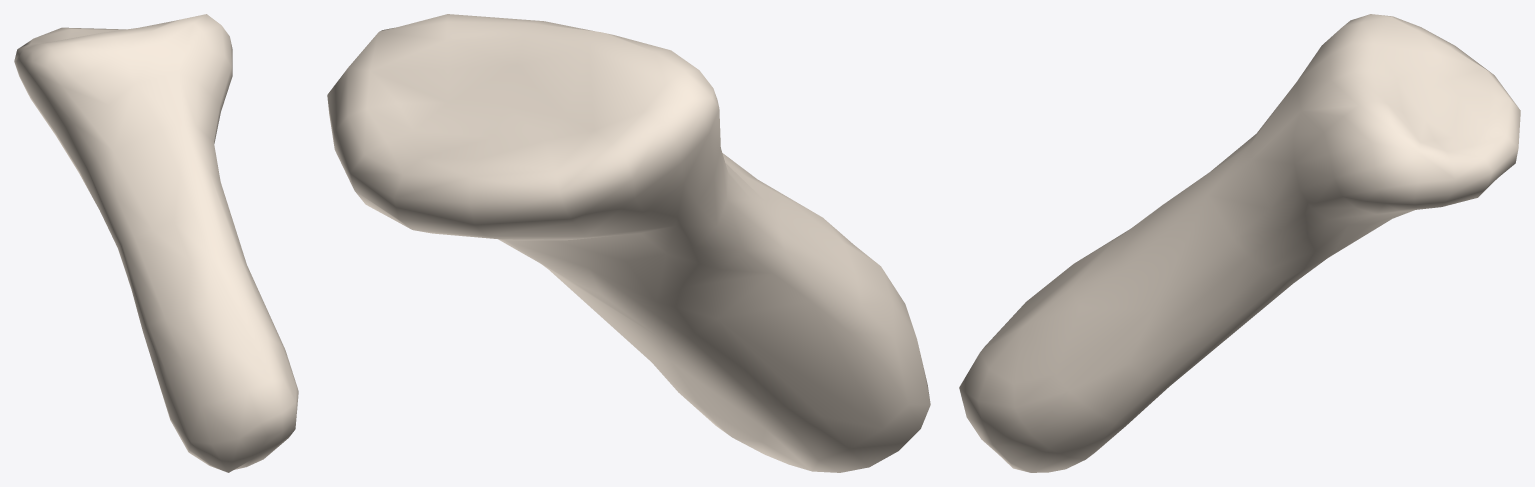
The model's file is left_digit_5_distal.glb.
3 views of the same model, side by side, from view 1: azimuth 30°, elevation 25°; view 2: azimuth 150°, elevation 25°; view 3: azimuth 270°, elevation 25° (orthographic). The views are drawn at different scales.
Visible parts, largest first — view 1: Distal phalanx of 5th finger.r; view 2: Distal phalanx of 5th finger.r; view 3: Distal phalanx of 5th finger.r.
Boxes of the visible parts, x1,y1,x2,y2 form: Distal phalanx of 5th finger.r: (14, 14, 298, 472); Distal phalanx of 5th finger.r: (327, 14, 930, 472); Distal phalanx of 5th finger.r: (959, 14, 1520, 472).
Bounding box in the file's own units: 0.00451 × 0.00709 × 0.00851.
